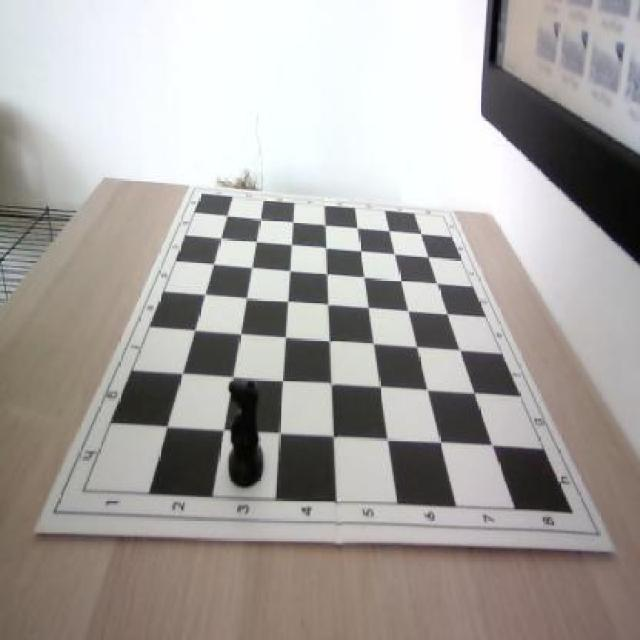black-king: (223, 377, 267, 488)
